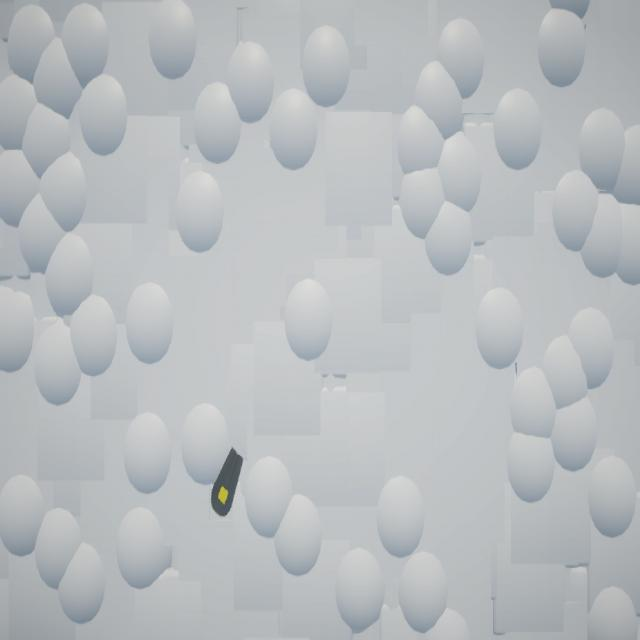handle_folk: (212, 448, 244, 518)
